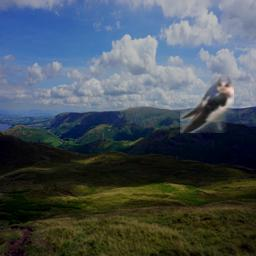Swallow: (180, 74, 234, 133)
